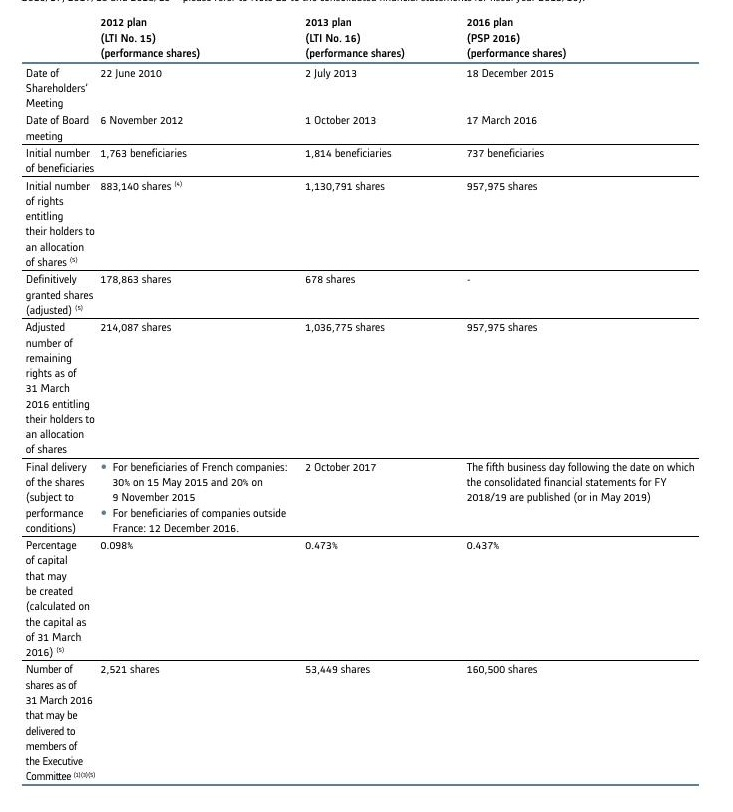table: (0, 0, 733, 812)
